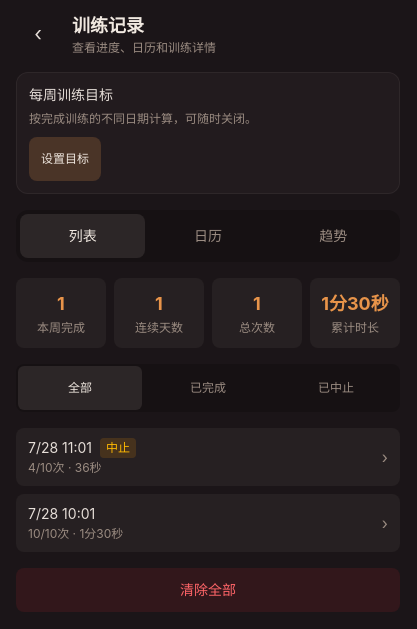
TrainingHistory detail navigation › filters the rendered list and shows a filter-specific empty state
Expected: the number of buttons named "训练记录详情" is 2, x1=16 y1=428 x2=400 y2=486; x1=16 y1=494 x2=400 y2=552
Click the button "已完成" at (208, 388), box x1=146 y1=366 x2=270 y2=410
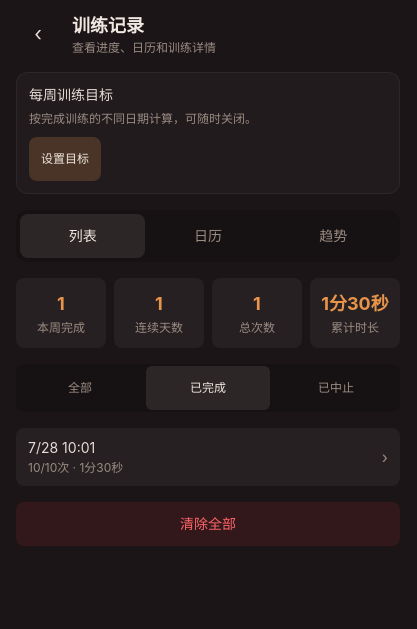
Now the number of buttons named "训练记录详情" is 1, box x1=16 y1=428 x2=400 y2=486
Click the button "已中止" at (336, 388), box x1=274 y1=366 x2=398 y2=410
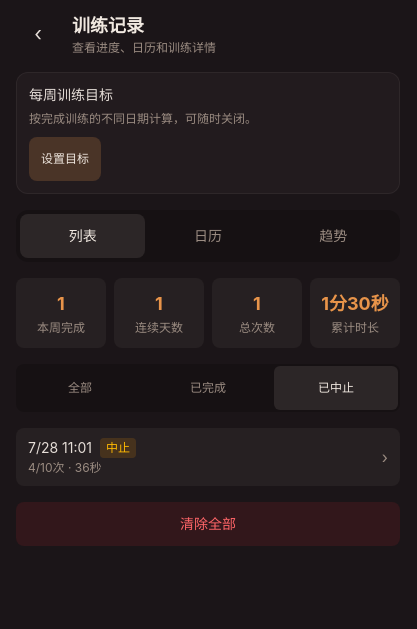
Now the number of buttons named "训练记录详情" is 1, box x1=16 y1=428 x2=400 y2=486
Now the text "中止" is shown, box x1=100 y1=438 x2=136 y2=458
